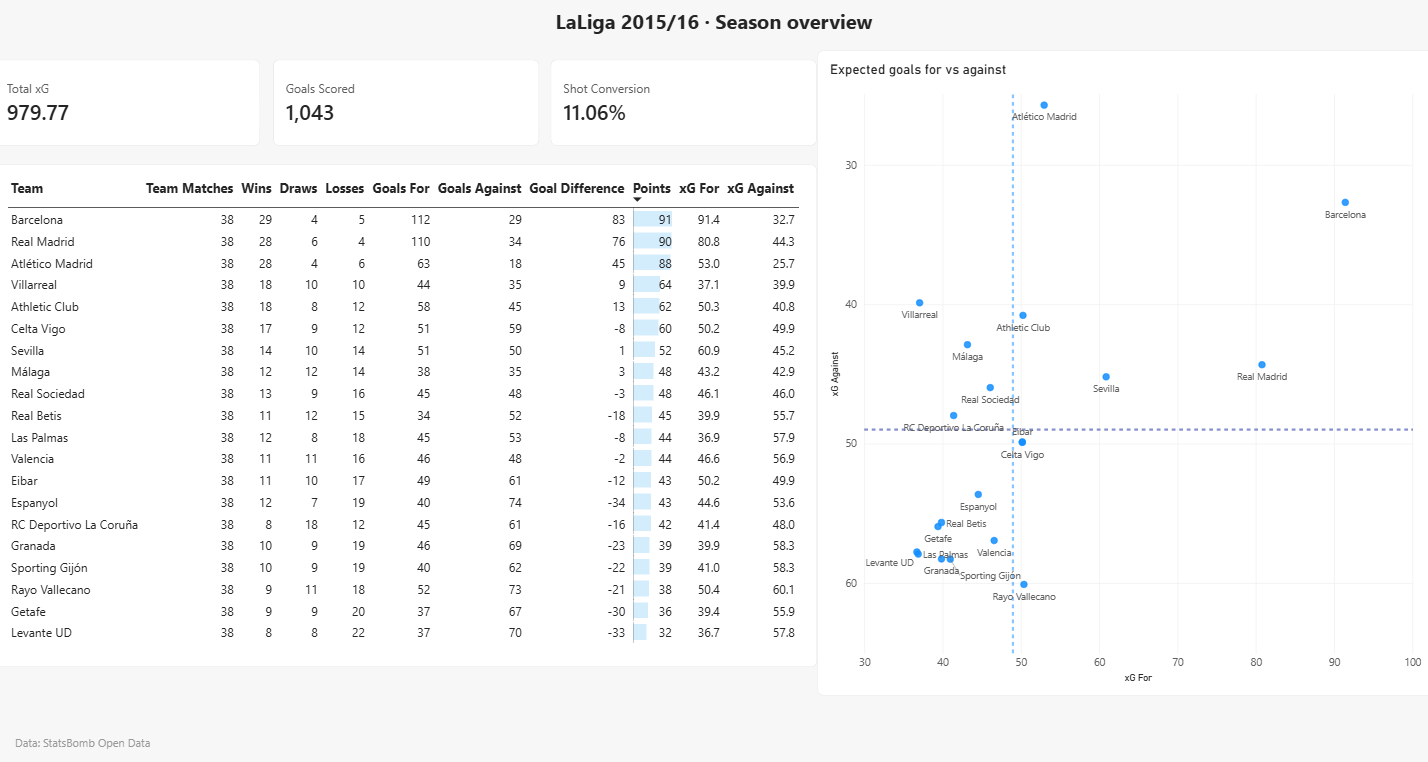

The dashboard page shown, as its layout file describes it:
{"tool":"powerbi","page":{"name":"League Overview","canvas":[1920,1080],"ordinal":0},"visuals":[{"type":"tableEx","fields":{"Values":["dim_team.team_name","metrics.Team Matches","metrics.Wins","metrics.Draws","metrics.Losses","metrics.Goals For","metrics.Goals Against","metrics.Goal Difference","metrics.Points","metrics.xG For","metrics.xG Against"]},"box":[0,262.5,1097.5,670],"z":0},{"type":"scatterChart","title":"Expected goals for vs against","fields":{"Category":["dim_team.team_name"],"X":["metrics.xG For"],"Y":["metrics.xG Against"]},"box":[1097.5,110,822.5,860],"z":1000},{"type":"textbox","box":[0,52.5,1920,57.5],"z":2000},{"type":"cardVisual","fields":{"Data":["metrics.Conversion Rate"]},"box":[742.5,122.5,355,115],"z":3000},{"type":"cardVisual","fields":{"Data":["metrics.Shot xG"]},"box":[0,122.5,355,115],"z":4000},{"type":"textbox","box":[27.5,1022.5,300,35],"z":6000},{"type":"cardVisual","fields":{"Data":["metrics.Goals Scored Label"]},"box":[372.5,122.5,355,115],"z":6001}]}

Visuals, with their boxes on the page's 1920x1080 design canvas (x1, y1, x2, y2). These are canvas units, not pixel positions in the 1428x762 screenshot, which may show the page scaled, cropped or inside an application window:
tableEx - dim_team.team_name x metrics.Team Matches: box(0, 262, 1098, 932)
"Expected goals for vs against" scatterChart: box(1098, 110, 1920, 970)
textbox: box(0, 52, 1920, 110)
cardVisual - metrics.Conversion Rate: box(742, 122, 1098, 238)
cardVisual - metrics.Shot xG: box(0, 122, 355, 238)
textbox: box(28, 1022, 328, 1058)
cardVisual - metrics.Goals Scored Label: box(372, 122, 728, 238)
